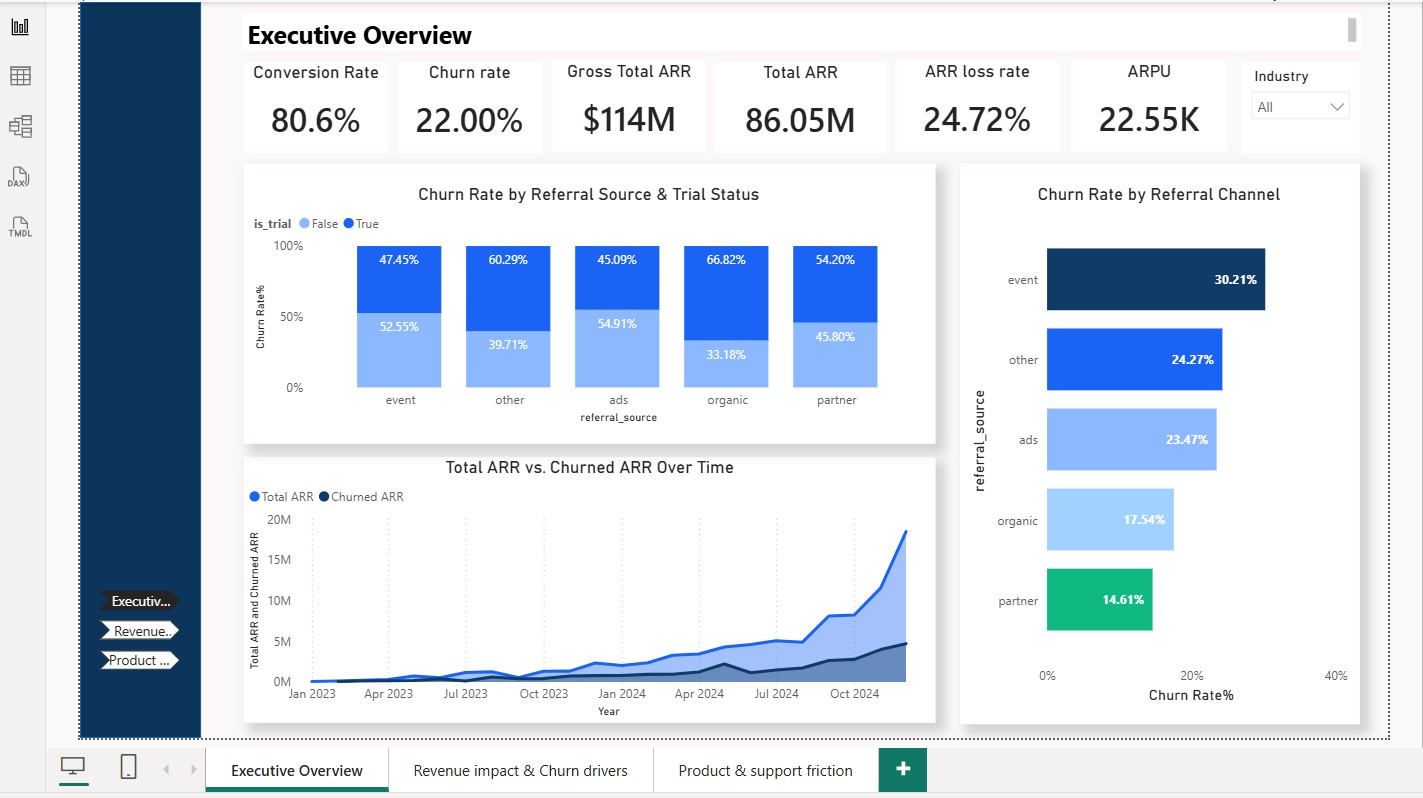

The page's visual inventory and layout, read from the dashboard file:
{"tool":"powerbi","page":{"name":"Executive Overview","canvas":[1280,720],"ordinal":0},"visuals":[{"type":"shape","box":[0,0,118.6,720],"z":0},{"type":"cardVisual","title":"Conversion Rate","fields":{"Data":["_Measures.Conversion Rate%"]},"box":[160,58.8,163.8,88.8],"z":1000},{"type":"cardVisual","title":"ARR loss rate","fields":{"Data":["_Measures.ARR loss rate"]},"box":[688.8,58.8,161.2,88.8],"z":2000},{"type":"clusteredBarChart","title":"Churn Rate by Referral Channel","fields":{"Category":["accounts.referral_source"],"Y":["_Measures.Churn Rate%"]},"box":[861.4,157.1,391.4,548.6],"z":3000},{"type":"cardVisual","title":"ARPU","fields":{"Data":["_Measures.ARPU (Avg revenue generated per paying users)"]},"box":[861.2,58.8,152.5,88.8],"z":4000},{"type":"stackedAreaChart","title":"Total ARR vs. Churned ARR Over Time","fields":{"Category":["subscriptions.start_date.Variation.Date Hierarchy.Year","subscriptions.start_date.Variation.Date Hierarchy.Month"],"Y":["_Measures.Total ARR","_Measures.Churned ARR"]},"box":[160,445.7,677.1,260],"z":5000},{"type":"cardVisual","title":"Total ARR","fields":{"Data":["_Measures.Total ARR"]},"box":[508.8,58.8,167.5,88.8],"z":6000},{"type":"cardVisual","title":"Churn rate","fields":{"Data":["_Measures.Churn Rate%"]},"box":[338.8,58.8,160,88.8],"z":7000},{"type":"hundredPercentStackedColumnChart","title":"Churn Rate by Referral Source & Trial Status","fields":{"Series":["accounts.is_trial"],"Category":["accounts.referral_source"],"Y":["_Measures.Churn Rate%"]},"box":[160,157.1,677.1,274.3],"z":8000},{"type":"textbox","box":[158.6,11.4,1094.3,37.1],"z":9000},{"type":"pageNavigator","box":[18.3,576,80.7,78.3],"z":10000},{"type":"slicer","fields":{"Values":["accounts.industry"]},"box":[1030,58.8,222.5,88.8],"z":11000}]}

Visuals, with their boxes on the page's 1280x720 design canvas (x1, y1, x2, y2). These are canvas units, not pixel positions in the 1423x798 screenshot, which may show the page scaled, cropped or inside an application window:
shape: {"left": 0, "top": 0, "right": 119, "bottom": 720}
"Conversion Rate" cardVisual: {"left": 160, "top": 59, "right": 324, "bottom": 148}
"ARR loss rate" cardVisual: {"left": 689, "top": 59, "right": 850, "bottom": 148}
"Churn Rate by Referral Channel" clusteredBarChart: {"left": 861, "top": 157, "right": 1253, "bottom": 706}
"ARPU" cardVisual: {"left": 861, "top": 59, "right": 1014, "bottom": 148}
"Total ARR vs. Churned ARR Over Time" stackedAreaChart: {"left": 160, "top": 446, "right": 837, "bottom": 706}
"Total ARR" cardVisual: {"left": 509, "top": 59, "right": 676, "bottom": 148}
"Churn rate" cardVisual: {"left": 339, "top": 59, "right": 499, "bottom": 148}
"Churn Rate by Referral Source & Trial Status" hundredPercentStackedColumnChart: {"left": 160, "top": 157, "right": 837, "bottom": 431}
textbox: {"left": 159, "top": 11, "right": 1253, "bottom": 48}
pageNavigator: {"left": 18, "top": 576, "right": 99, "bottom": 654}
slicer - accounts.industry: {"left": 1030, "top": 59, "right": 1252, "bottom": 148}
